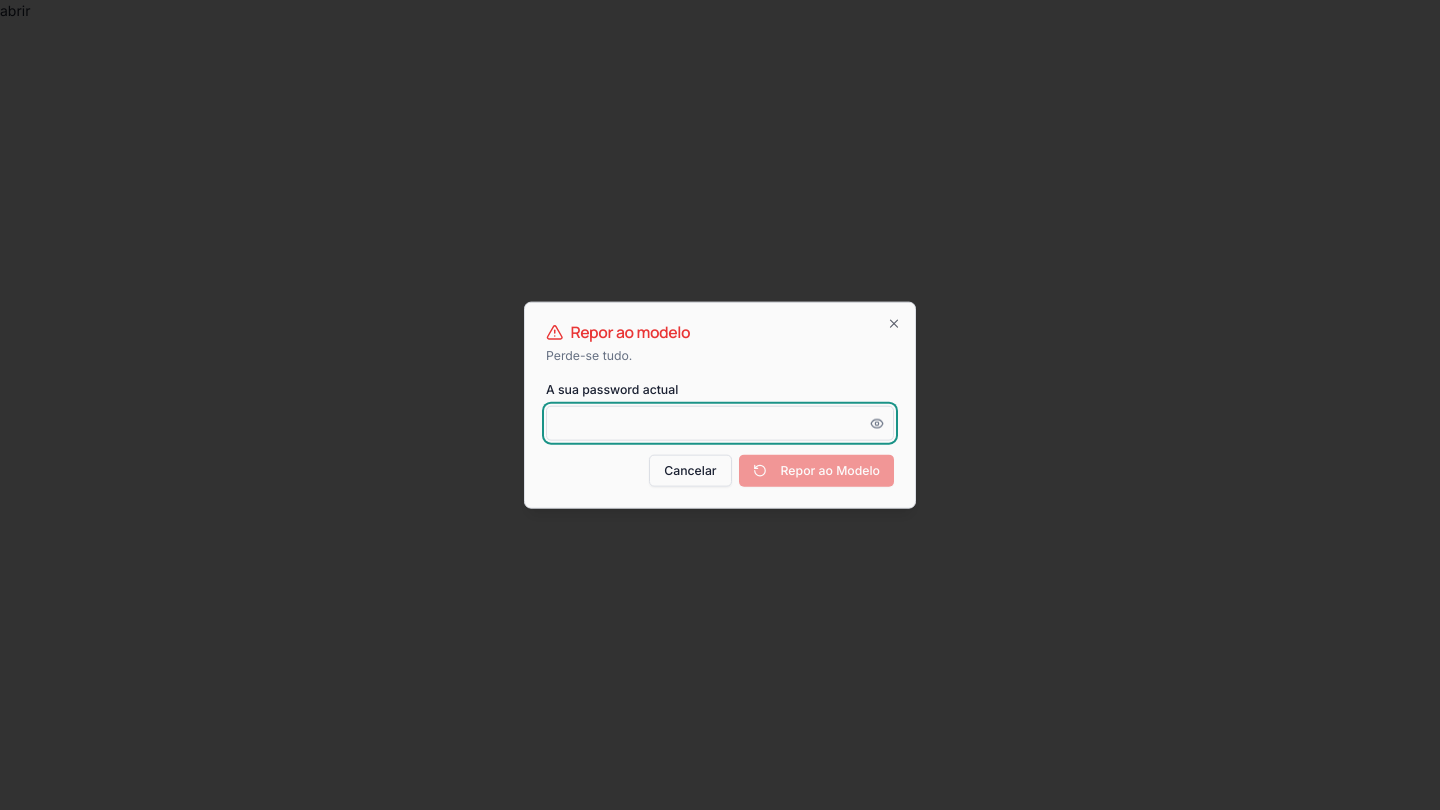
ReporAoModeloDialog › o botão de confirmar só se activa com a password escrita
expect the button "Repor ao Modelo" is disabled: met, box x1=739 y1=455 x2=894 y2=486
Type "x" into the password field labelled "A sua password actual" at point(720, 423), box x1=546 y1=406 x2=894 y2=441
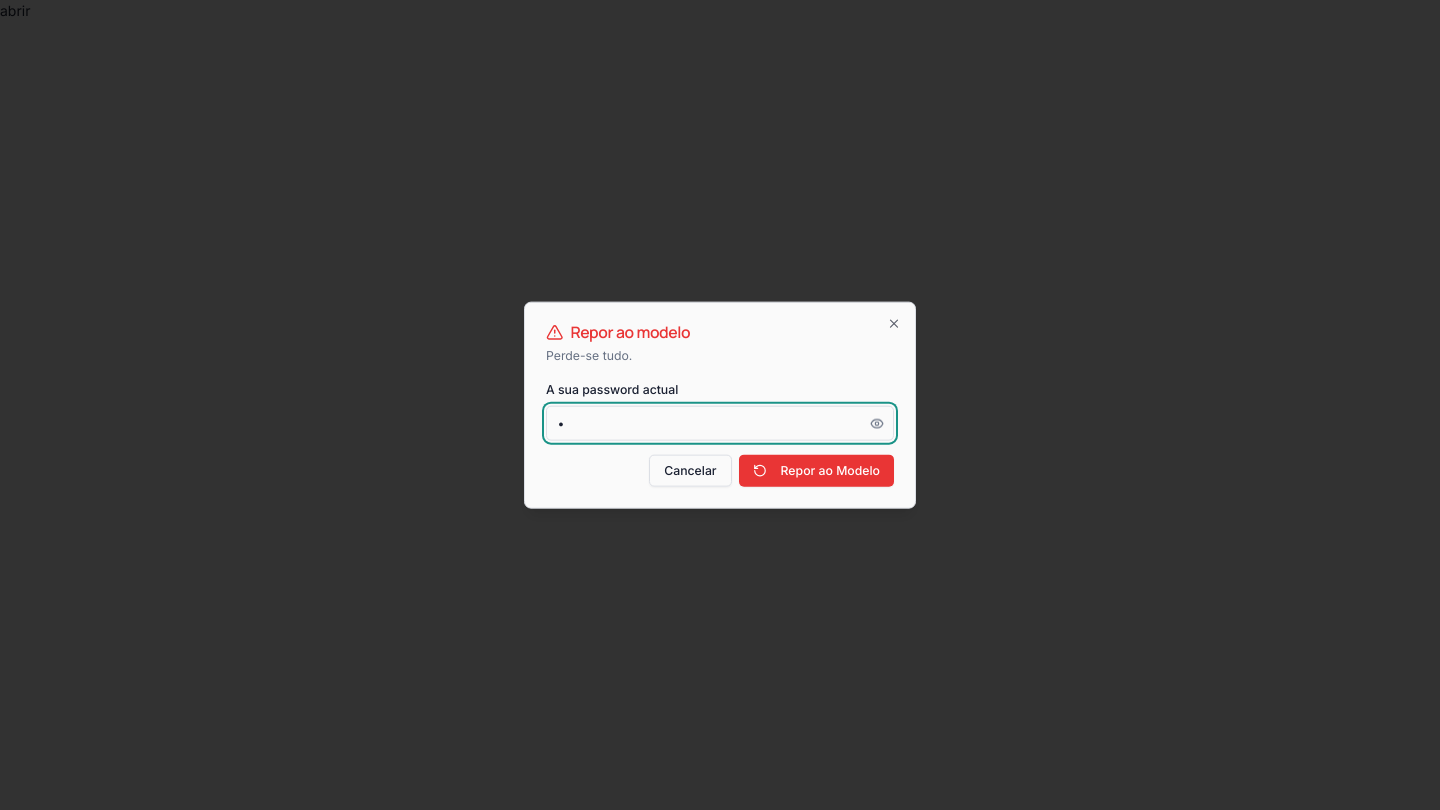
expect the button "Repor ao Modelo" is enabled: met, box x1=739 y1=455 x2=894 y2=486
